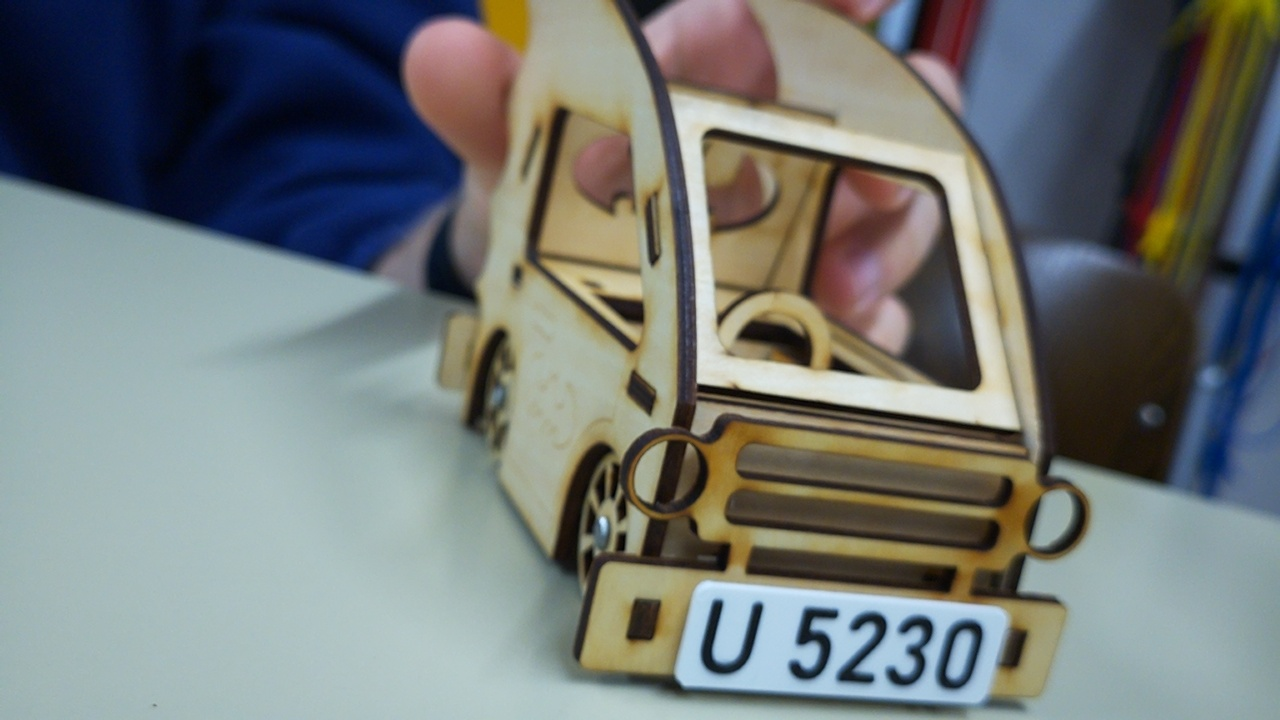license_plate: (673, 575, 1012, 709)
